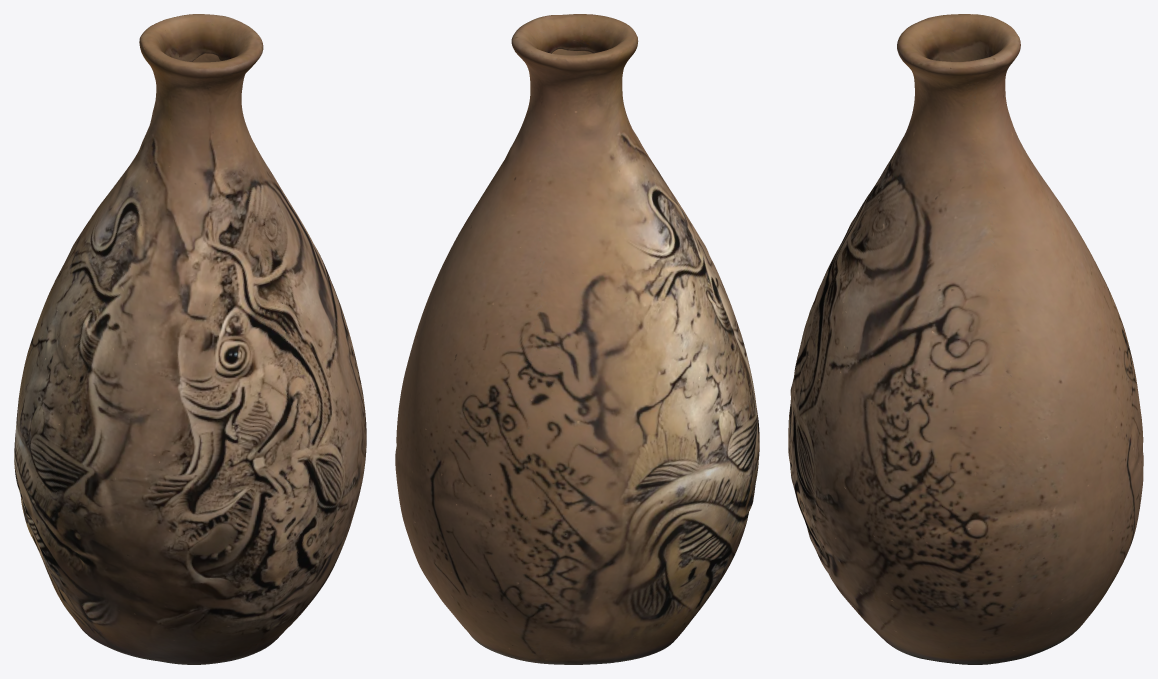
The picture shows the model from 3 angles, left to right: view 1: azimuth 30°, elevation 25°; view 2: azimuth 150°, elevation 25°; view 3: azimuth 270°, elevation 25°; orthographic projection.
Bounding box in the file's own units: 1.1 × 2 × 1.09.
Materials: 1 (1 with a texture image).
